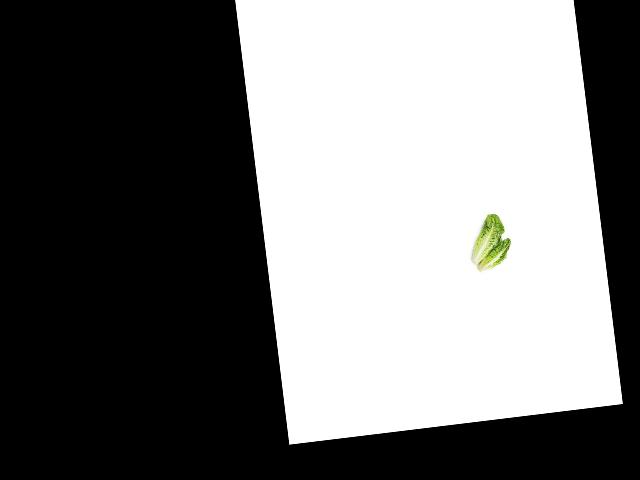lettuce: (463, 212, 509, 261)
